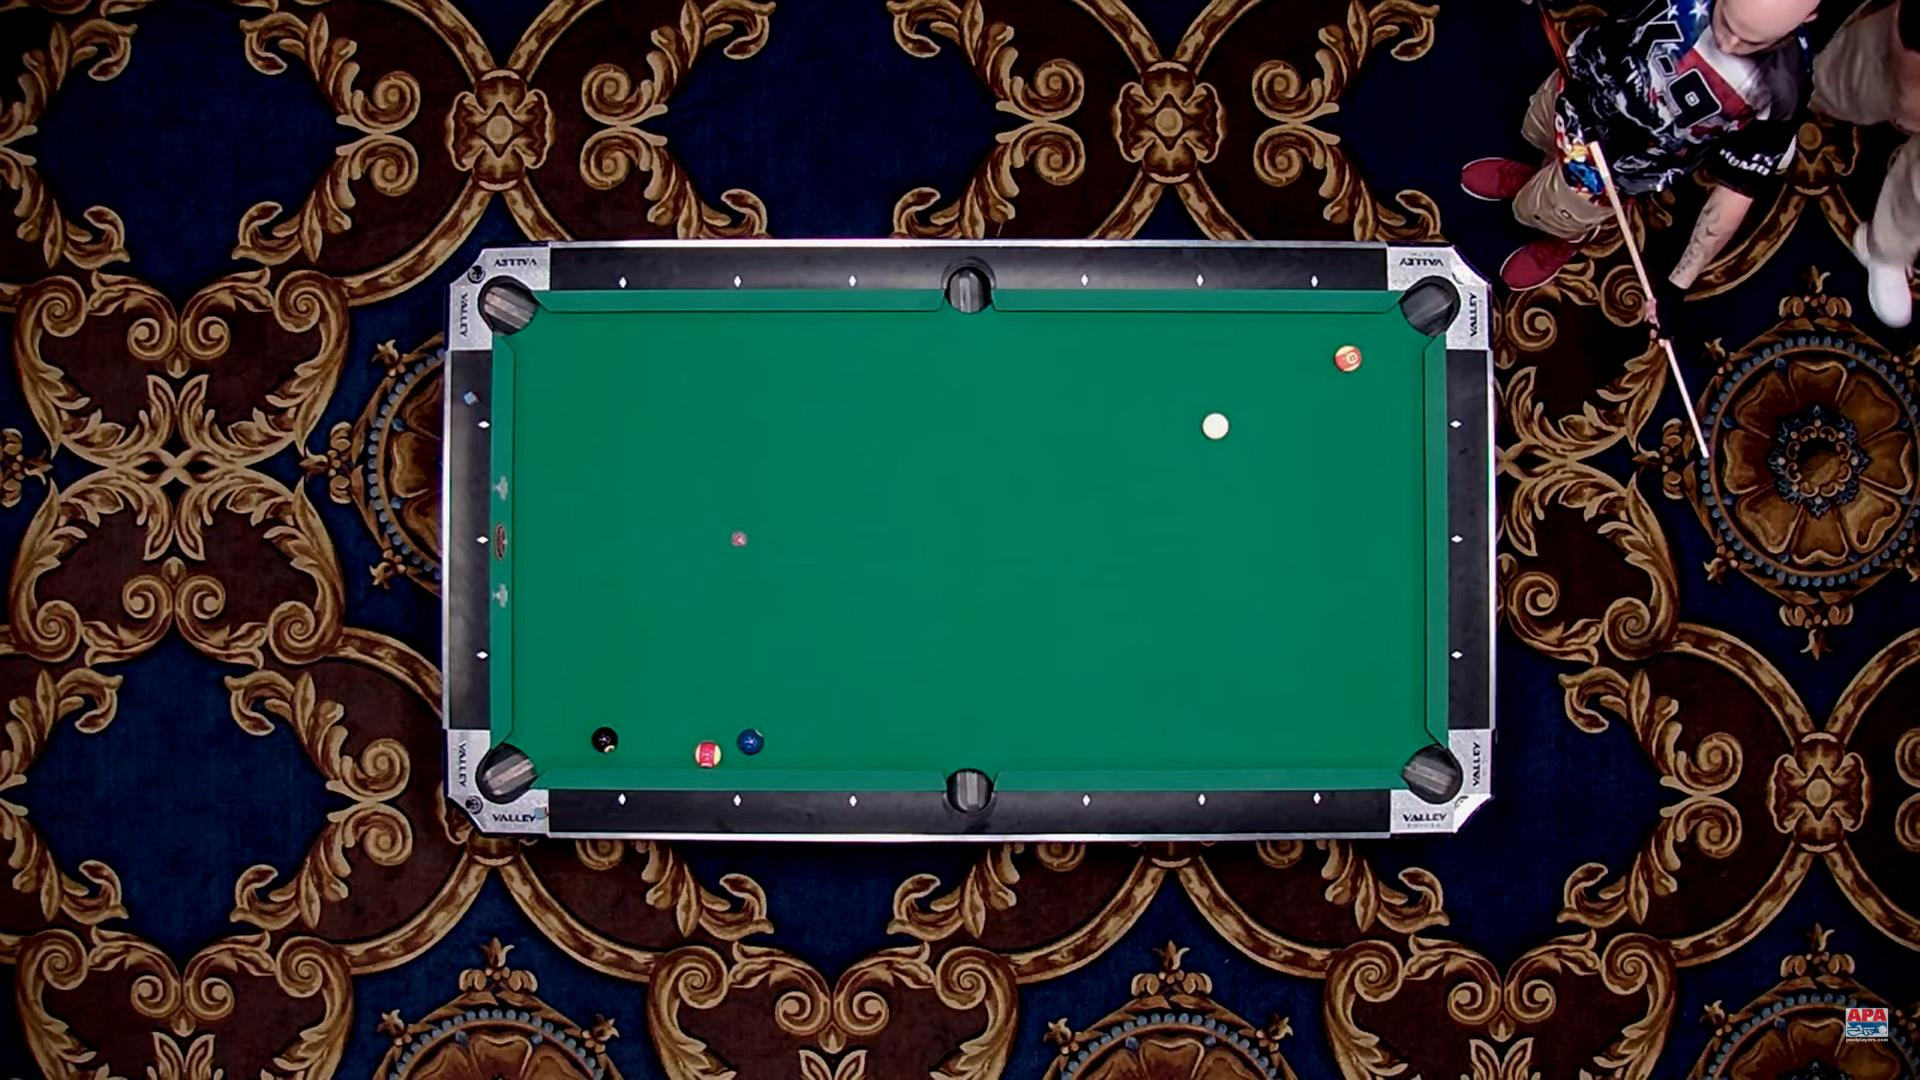Black: (591, 727, 618, 753)
Cue: (1203, 413, 1229, 439)
Dot: (616, 276, 630, 290), (731, 274, 745, 289), (1077, 273, 1092, 287), (1308, 274, 1323, 289), (615, 793, 629, 807), (847, 274, 860, 289), (1193, 273, 1207, 287), (1449, 418, 1464, 431), (1309, 793, 1324, 806), (1195, 793, 1208, 807), (1079, 794, 1093, 807), (847, 794, 860, 808), (731, 794, 744, 808), (1451, 533, 1464, 546), (1451, 649, 1464, 662), (476, 649, 489, 662), (476, 533, 489, 546), (477, 418, 491, 431)
Solid: (737, 728, 764, 756)
Striped: (1335, 345, 1361, 372), (695, 742, 721, 767)
